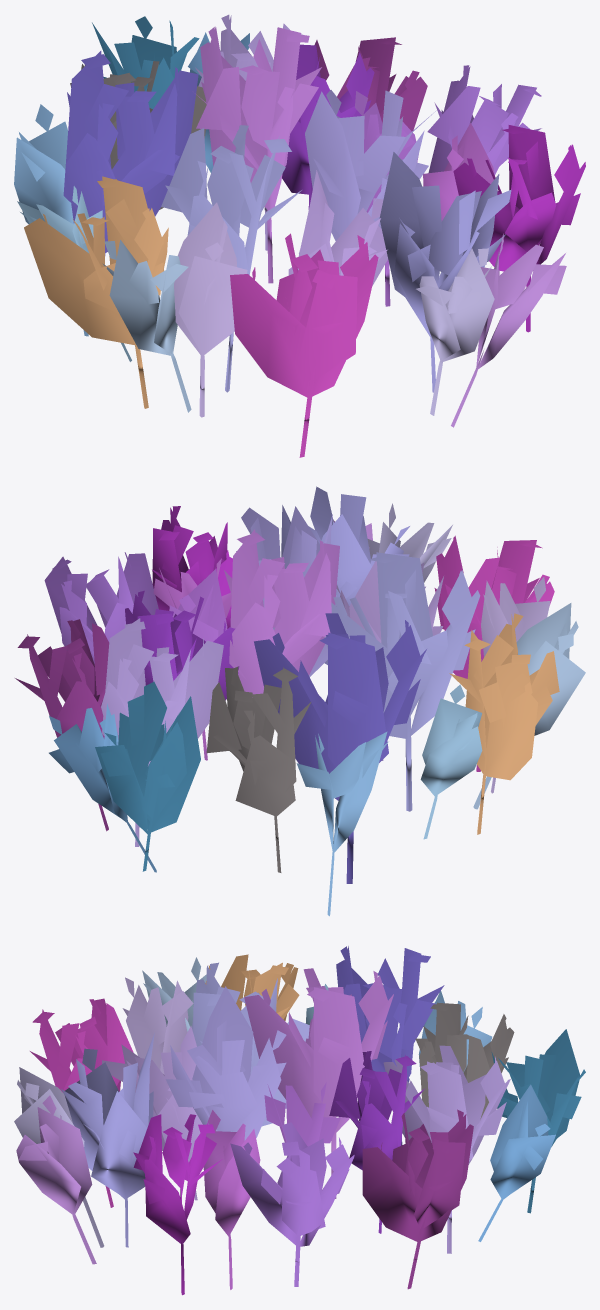
3 views of the same model, one above another, from view 1: azimuth 30°, elevation 25°; view 2: azimuth 150°, elevation 25°; view 3: azimuth 270°, elevation 25° (orthographic). The views are drawn at different scales.
Visible parts, largest first — view 1: SM_BS_Daisy_100cm_HD; view 2: SM_BS_Daisy_100cm_HD; view 3: SM_BS_Daisy_100cm_HD.
Boxes of the visible parts, left/top/right/bottom form: SM_BS_Daisy_100cm_HD: left=14, top=14, right=585, bottom=457; SM_BS_Daisy_100cm_HD: left=15, top=486, right=585, bottom=916; SM_BS_Daisy_100cm_HD: left=14, top=946, right=585, bottom=1295.
Bounding box in the file's own units: 88.61 × 79.61 × 47.13.
